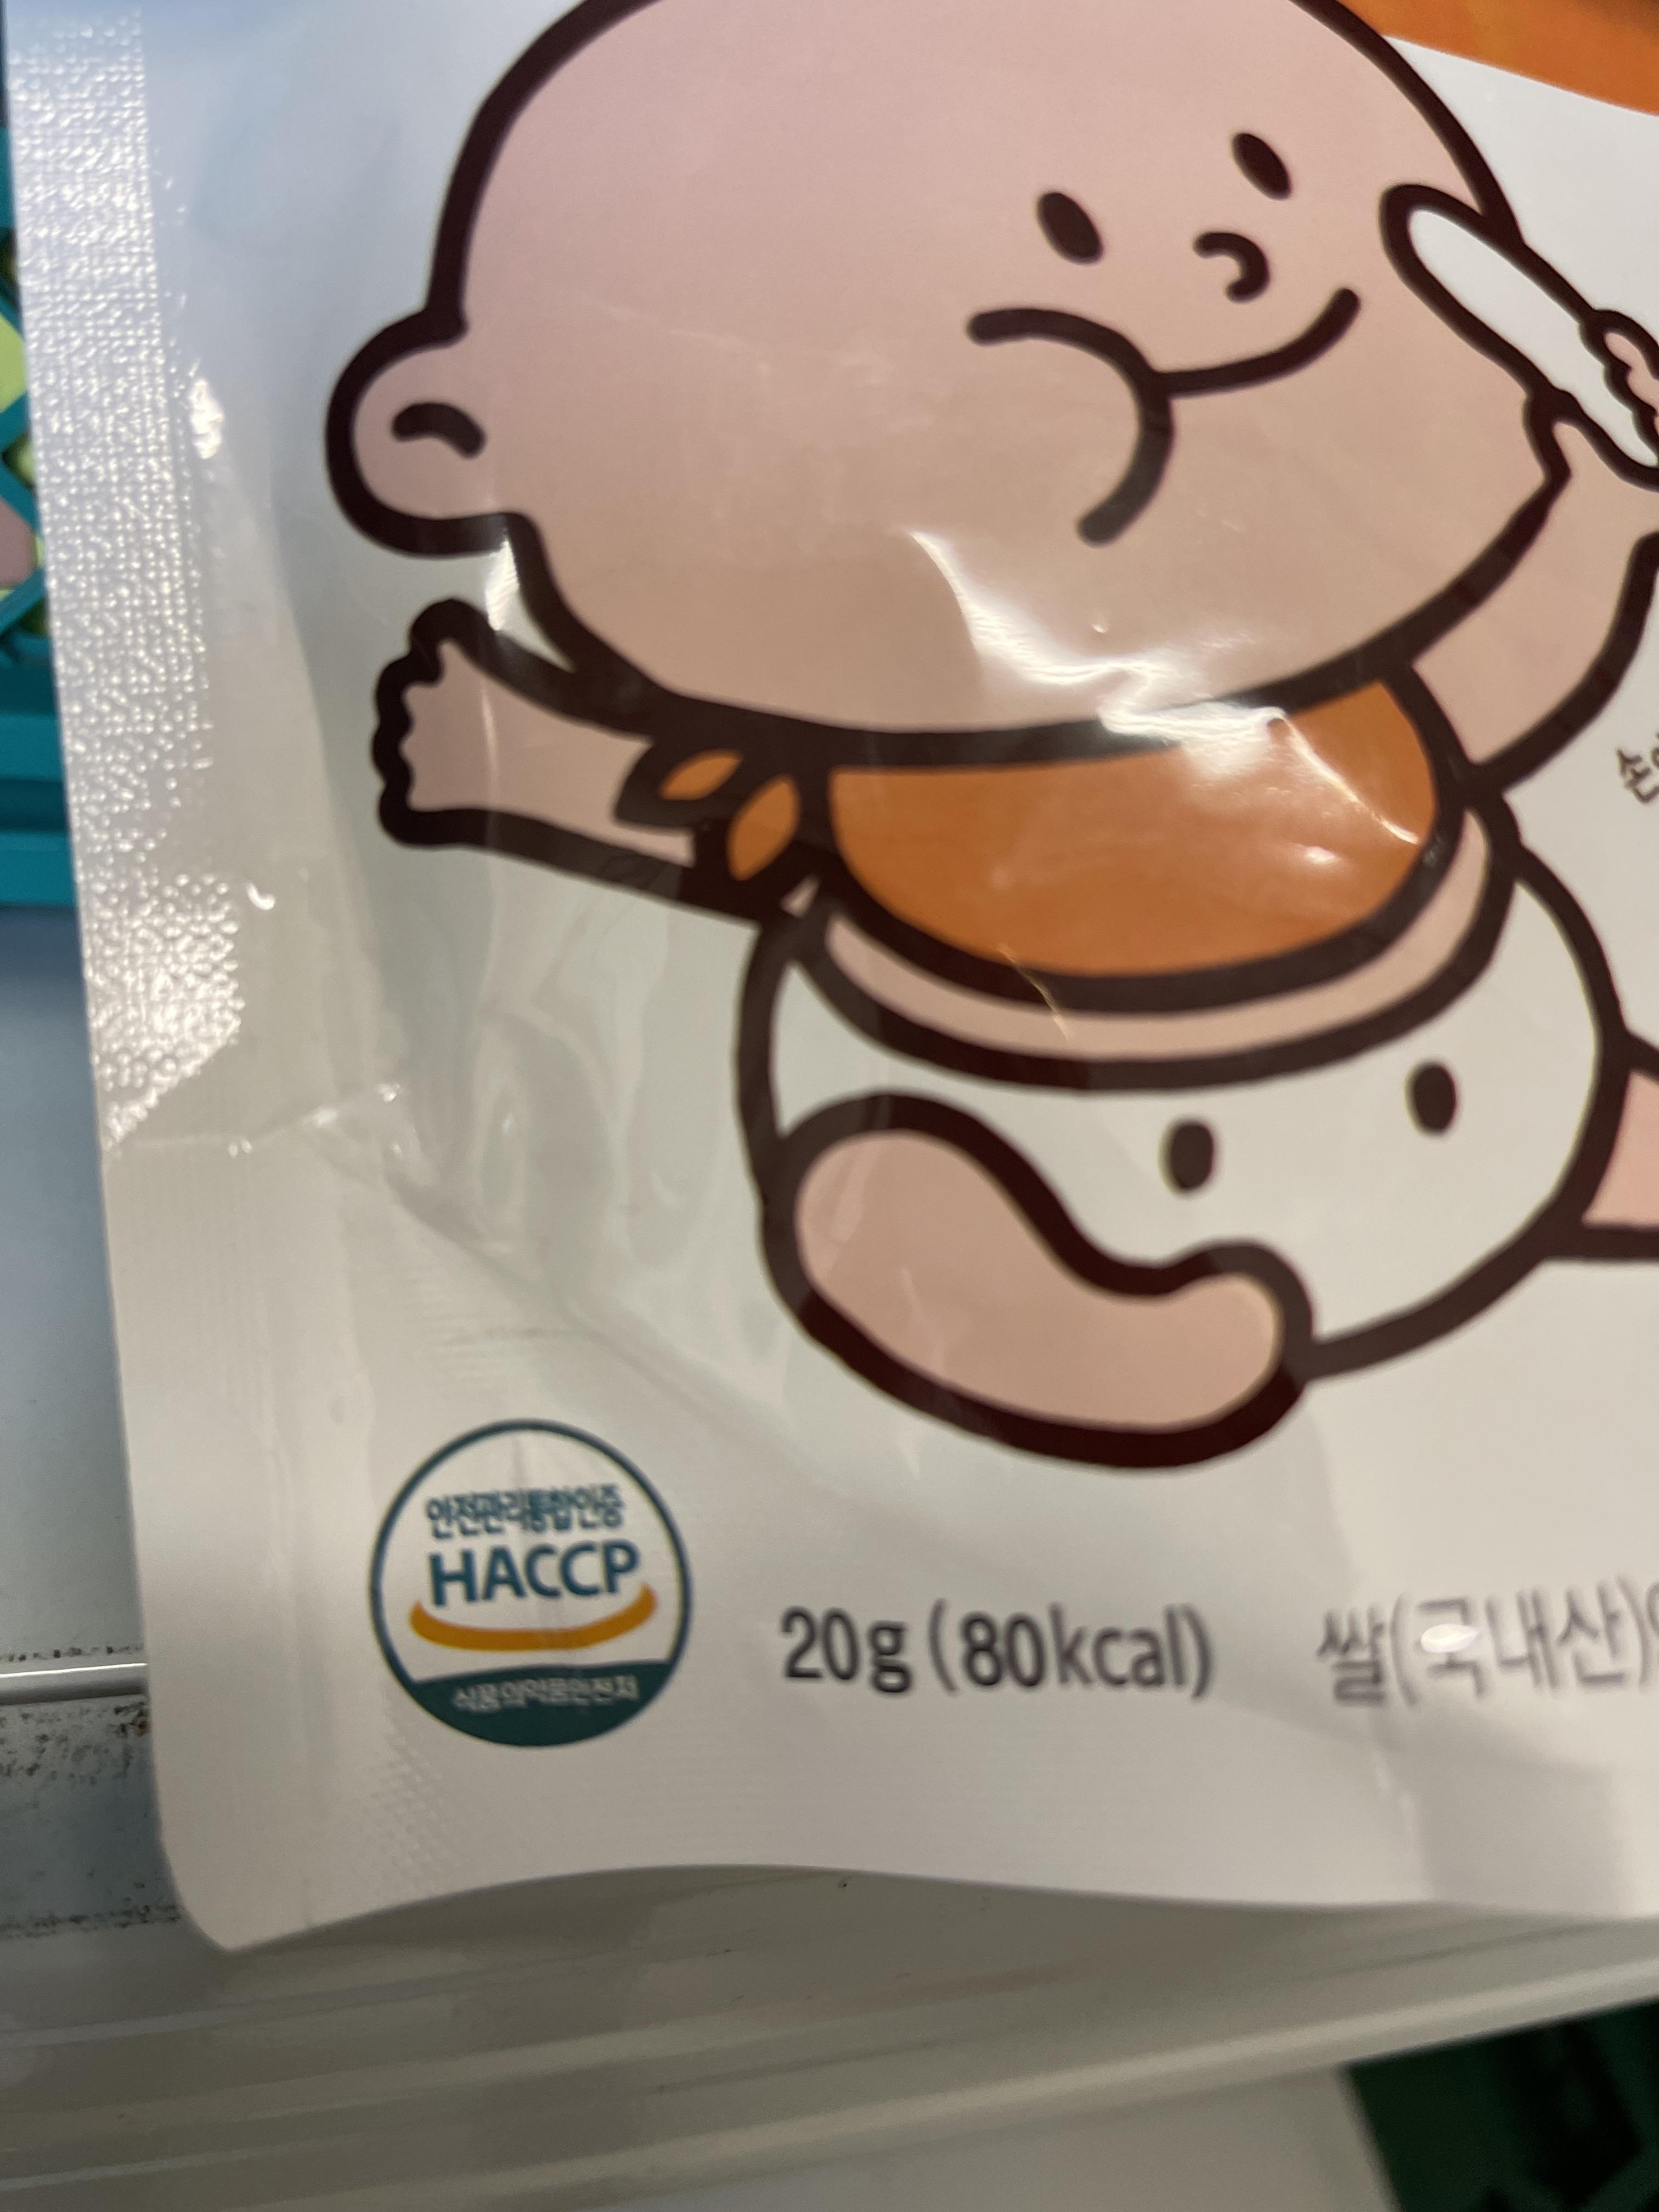object_name: (197, 0, 1659, 1827)
